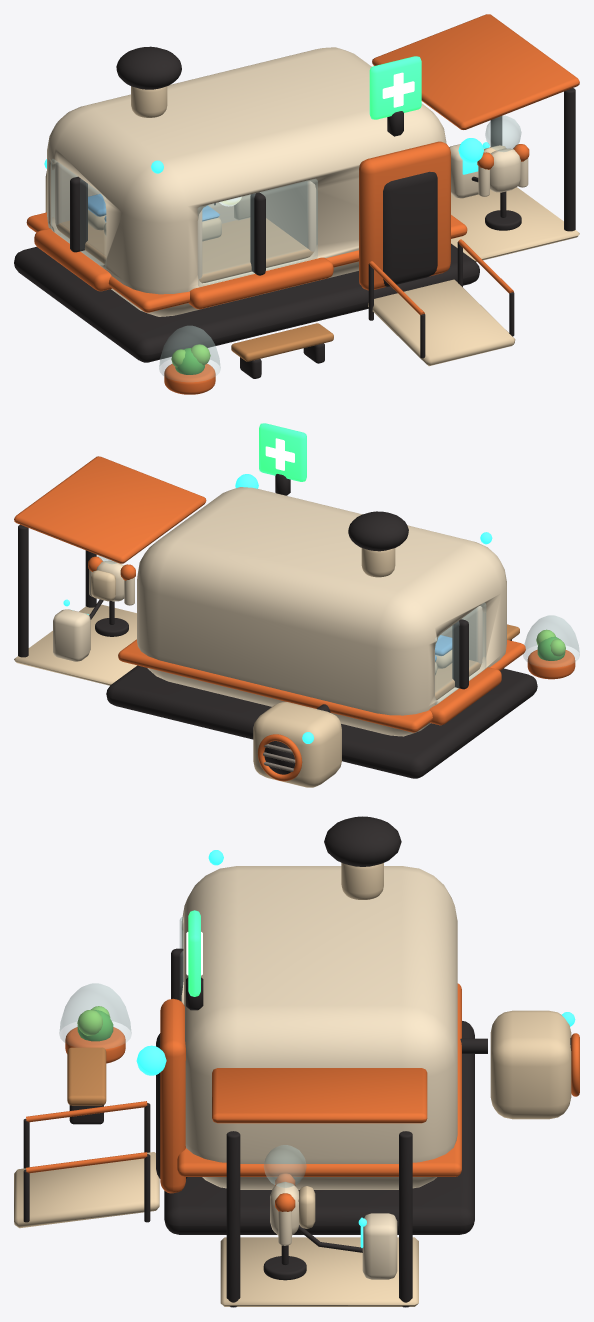
Rendered from medpost.glb.
3 renders of one model, top to bottom at view 1: azimuth 30°, elevation 25°; view 2: azimuth 150°, elevation 25°; view 3: azimuth 270°, elevation 25°, orthographic. The views are drawn at different scales.
Parts seen in each view (by area): view 1: Cube.001, Cube, Cube.013, Cube.012, Cube.006, Cube.003, Cube.002, Cube.033, Cube.050, Cube.011, Cube.034, Cube.007 (+1 smaller); view 2: Cube.001, Cube, Cube.013, Cube.006, Cube.012, Cube.033, Cube.002, Cube.003, Cube.011, Cube.034; view 3: Cube.001, Cube.006, Cube, Cube.013, Cube.012, Cube.050, Cube.011, Cube.033, Sphere.011.
Part boxes in pixels (x1,y1,x2,y2): Cube.001: (47, 47, 528, 316); Cube: (14, 46, 575, 378); Cube.013: (26, 14, 579, 394); Cube.012: (51, 115, 521, 381); Cube.006: (45, 86, 579, 366); Cube.003: (56, 218, 313, 283); Cube.002: (55, 162, 316, 278); Cube.033: (369, 56, 421, 119); Cube.050: (231, 323, 333, 361); Cube.011: (44, 138, 489, 174); Cube.034: (382, 72, 414, 107); Cube.007: (88, 194, 219, 221); Cube.001: (53, 487, 506, 736); Cube: (18, 474, 537, 778); Cube.013: (14, 456, 575, 781); Cube.006: (14, 548, 452, 787); Cube.012: (97, 555, 579, 704); Cube.033: (259, 423, 306, 481); Cube.002: (434, 606, 482, 694); Cube.003: (435, 660, 481, 699); Cube.011: (63, 474, 492, 743); Cube.034: (265, 438, 294, 470); Cube.001: (181, 866, 457, 1279); Cube.006: (14, 862, 571, 1306); Cube: (23, 816, 571, 1307); Cube.013: (26, 983, 579, 1211); Cube.012: (59, 917, 306, 1187); Cube.050: (67, 1047, 106, 1105); Cube.011: (136, 850, 575, 1247); Cube.033: (188, 910, 200, 996); Sphere.011: (77, 1006, 110, 1035).
Bounding box in the file's own units: 1.48 × 0.7221 × 1.31.
